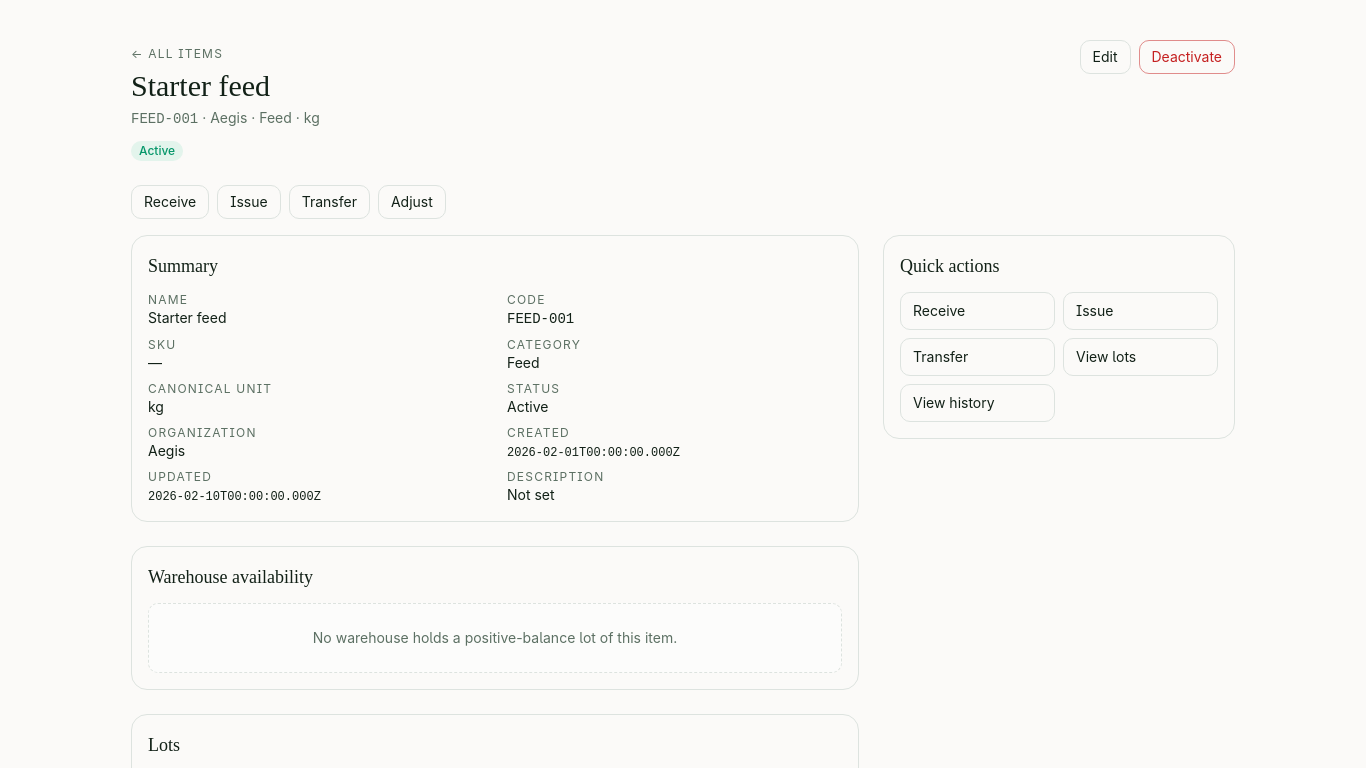
Scenario: Item edit + lifecycle › deactivate flow: confirm → PATCH is_active=false → header shows Activate
Click the button with test id "item-header-deactivate".
click(1187, 57)  # box x1=1138 y1=40 x2=1235 y2=74
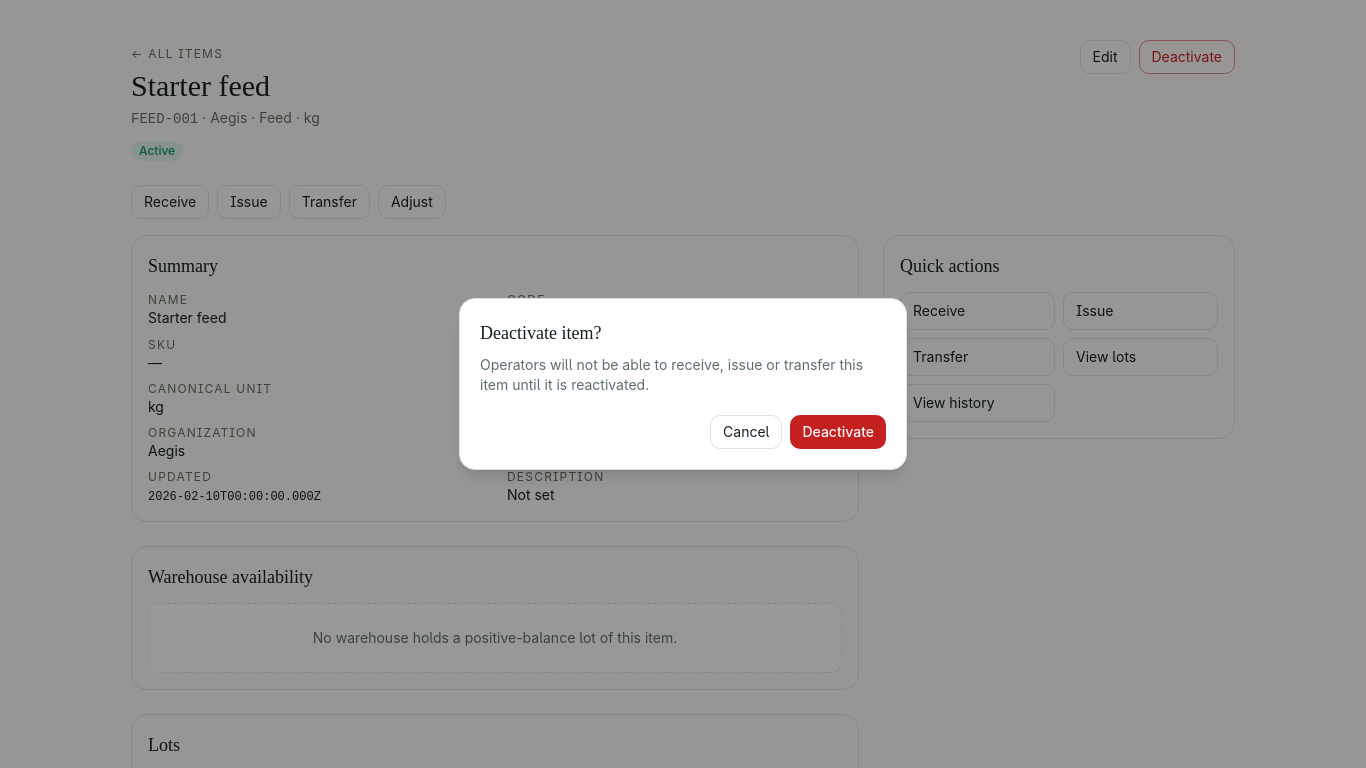
Click the button with test id "item-detail-status-confirm-confirm".
click(838, 432)  # box x1=790 y1=415 x2=886 y2=449
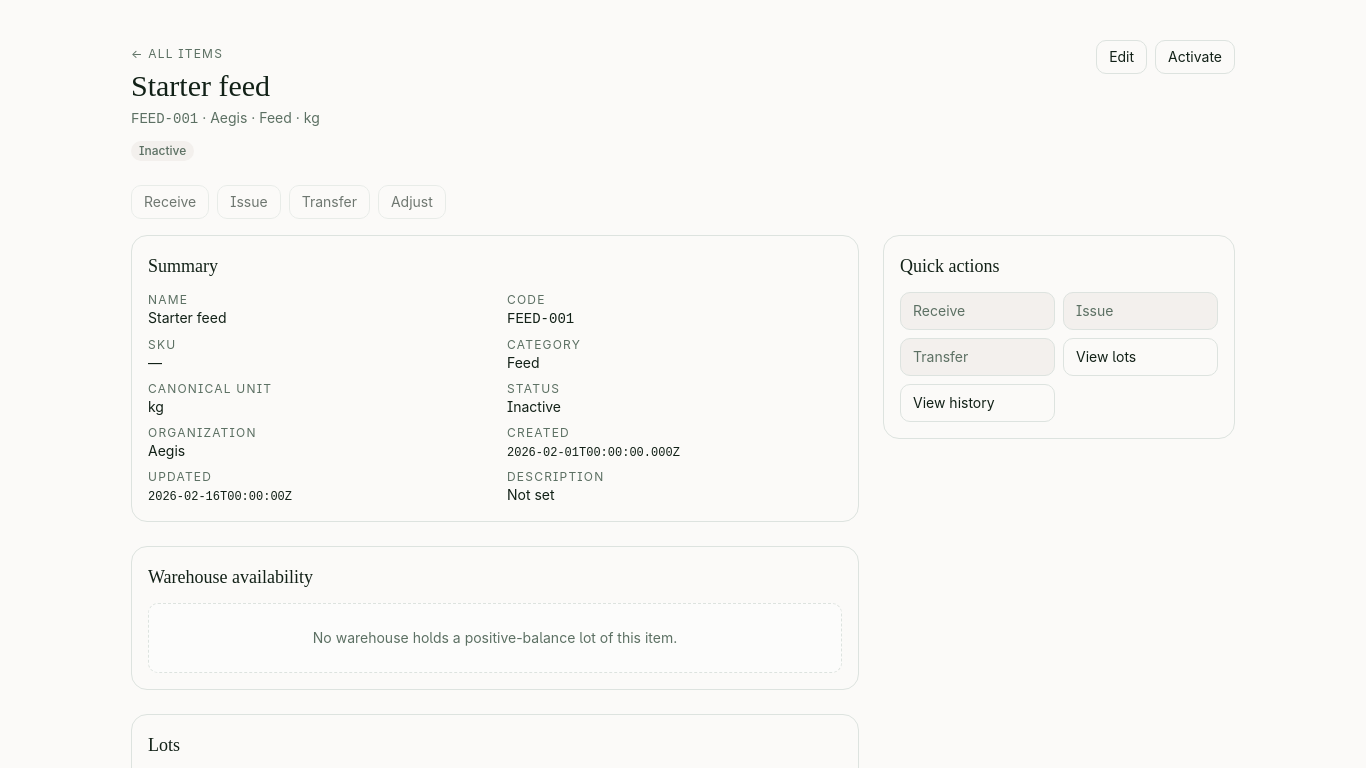
Result: the button with test id "item-header-activate" is shown at x1=1155 y1=40 x2=1235 y2=74
